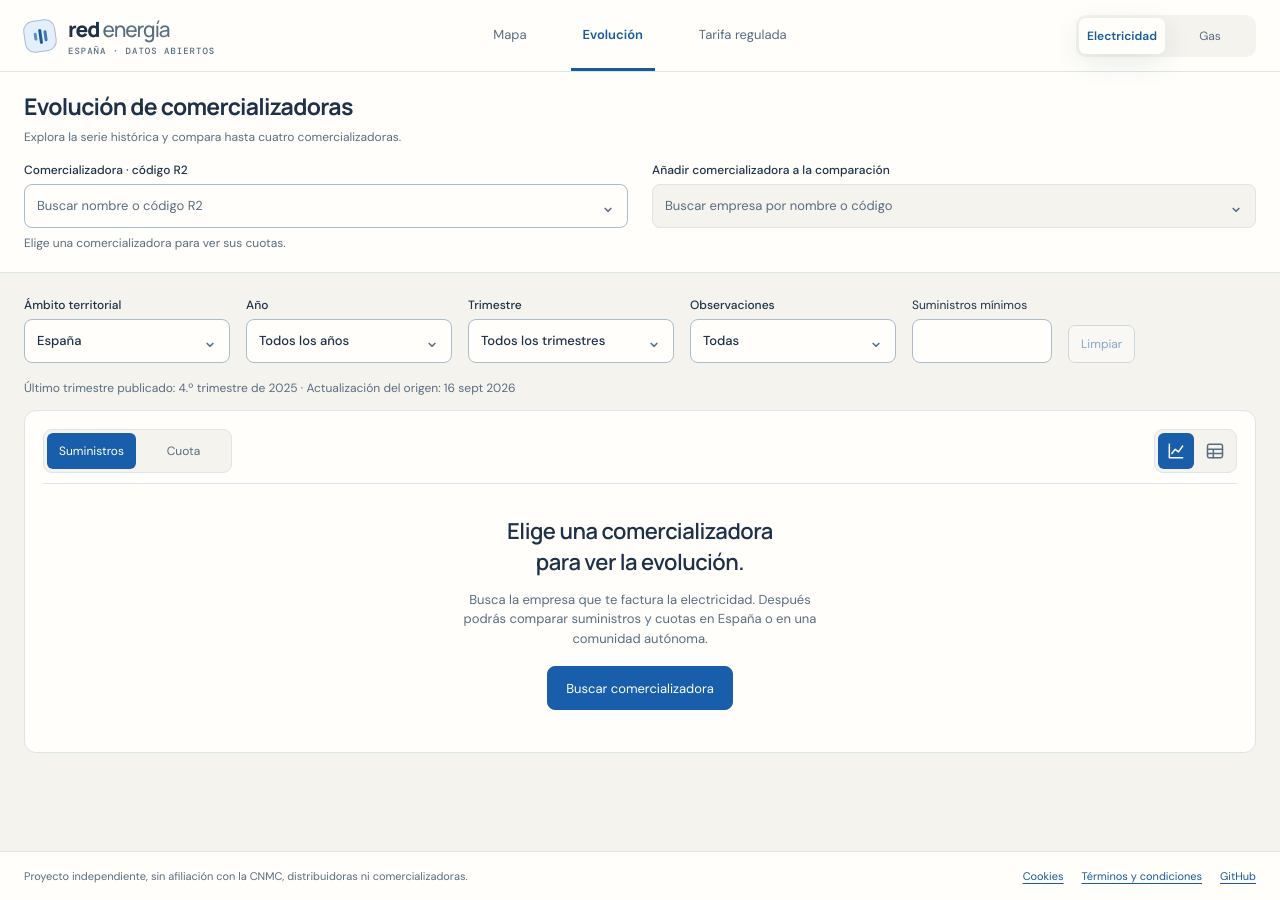
it: evolution route › takes the empty evolution view to company search without changing the URL
The image size is (1280, 900).
Expected: the dropdown labelled "Ámbito territorial" is enabled, [24,319,230,363]
Expected: the dropdown labelled "Comercializadora · código R2" is enabled, [24,184,628,228]
Step 1. Click the button "Buscar comercializadora" → (640, 688), box [547,666,733,710]
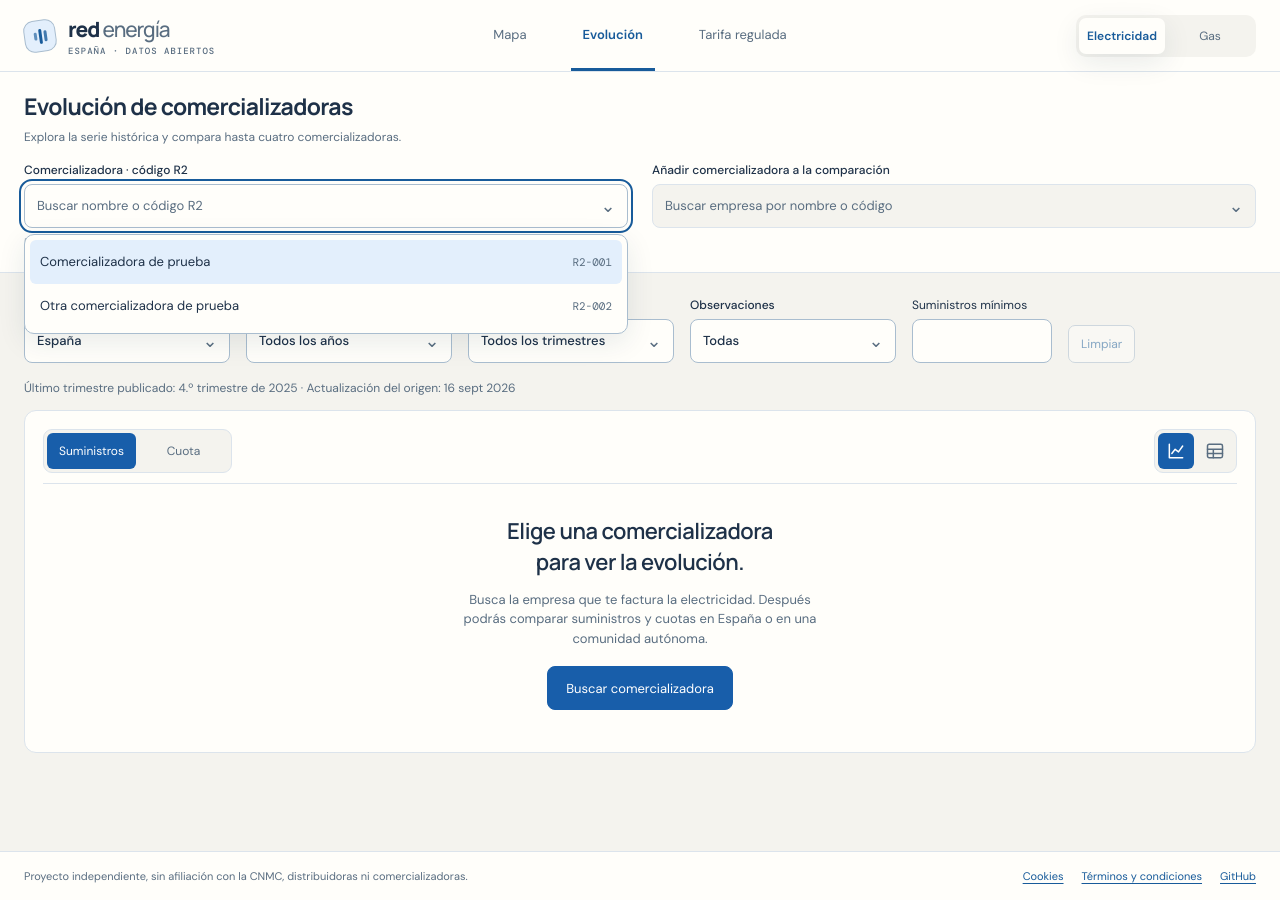
Expected: the list is shown, [24,234,628,334]
